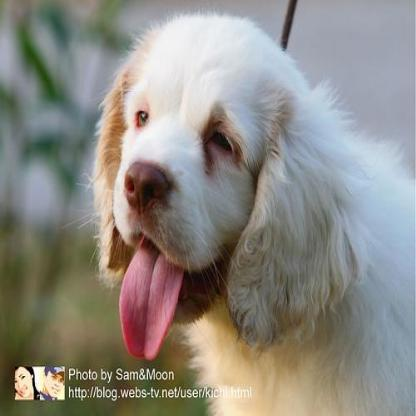clumber: (86, 8, 414, 414)
